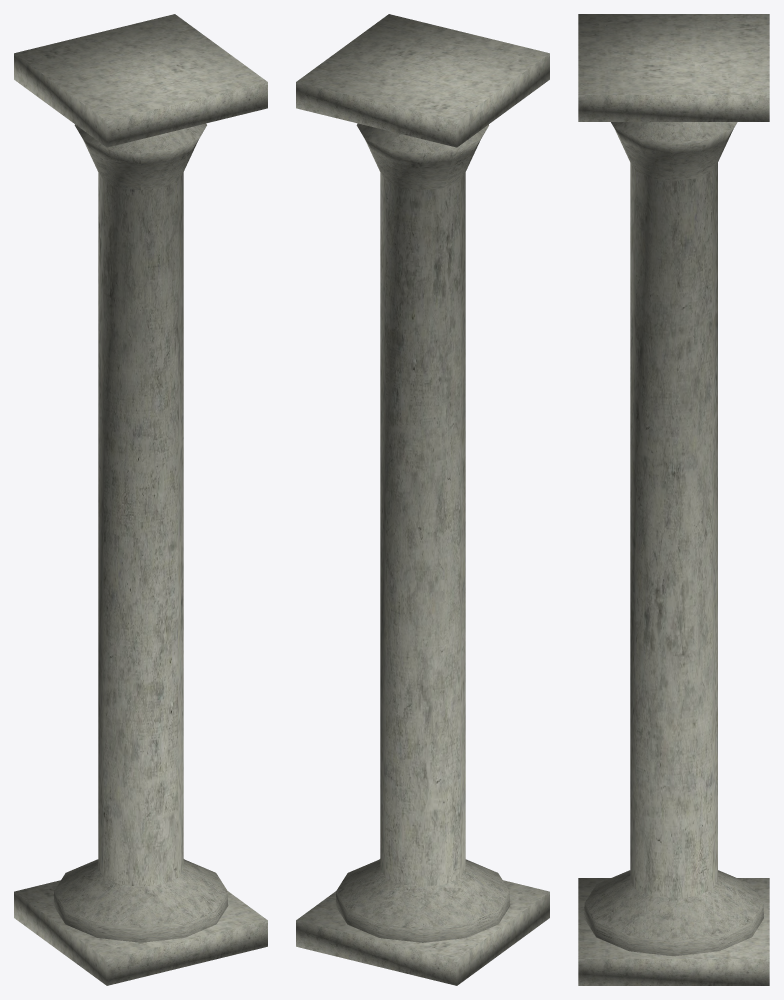
The model's file is Ruin_Column.glb.
3 renders of one model, left to right at view 1: azimuth 30°, elevation 25°; view 2: azimuth 150°, elevation 25°; view 3: azimuth 270°, elevation 25°, orthographic. The views are drawn at different scales.
Visible parts, largest first — view 1: RomanTypeColOne200; view 2: RomanTypeColOne200; view 3: RomanTypeColOne200.
Part boxes in pixels (x1,y1,x2,y2): RomanTypeColOne200: (14,14,267,985); RomanTypeColOne200: (296,14,549,985); RomanTypeColOne200: (578,14,769,985).
Size of the model in its own units: 0.7015 by 3.6 by 0.7015.
Materials: 2 (2 with a texture image).
